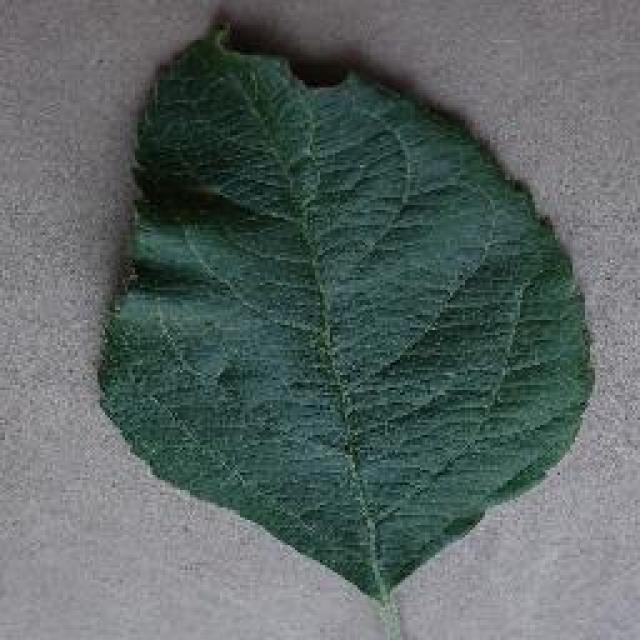apple scab disease: (93, 20, 595, 618)
